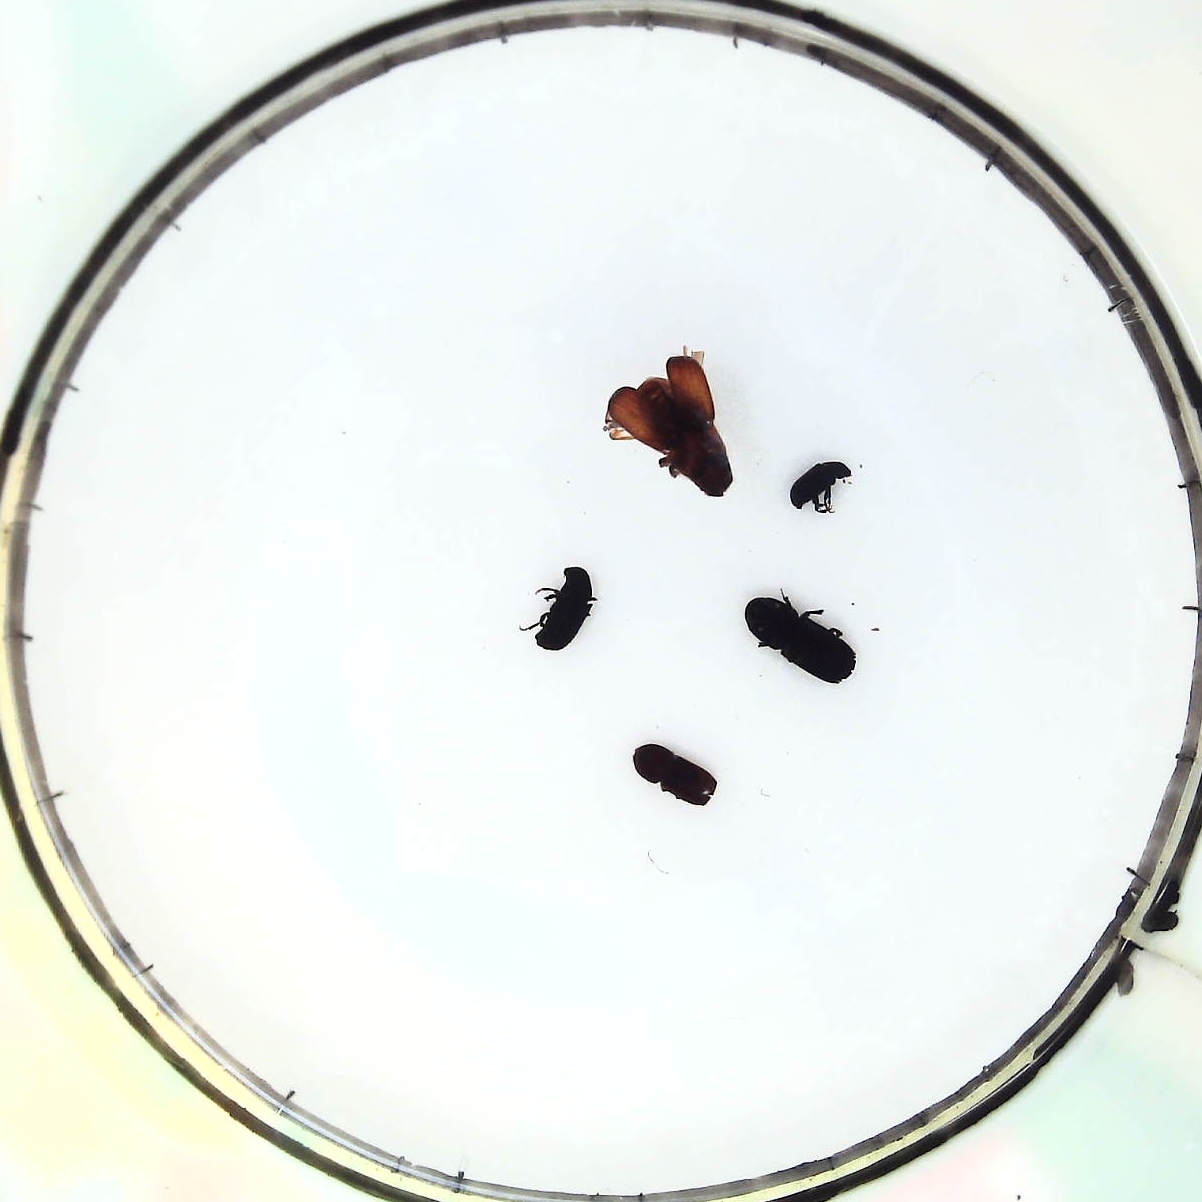Boerner: (747, 599, 857, 684)
Leconte: (607, 353, 730, 499)
Linnaeus: (635, 745, 720, 809)
armandi: (537, 560, 593, 653)
coleoptera: (789, 457, 846, 509)
